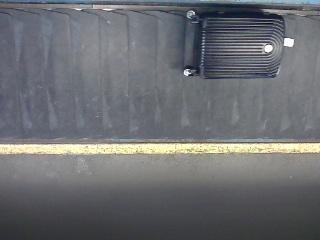Suitcase: (164, 2, 293, 95)
